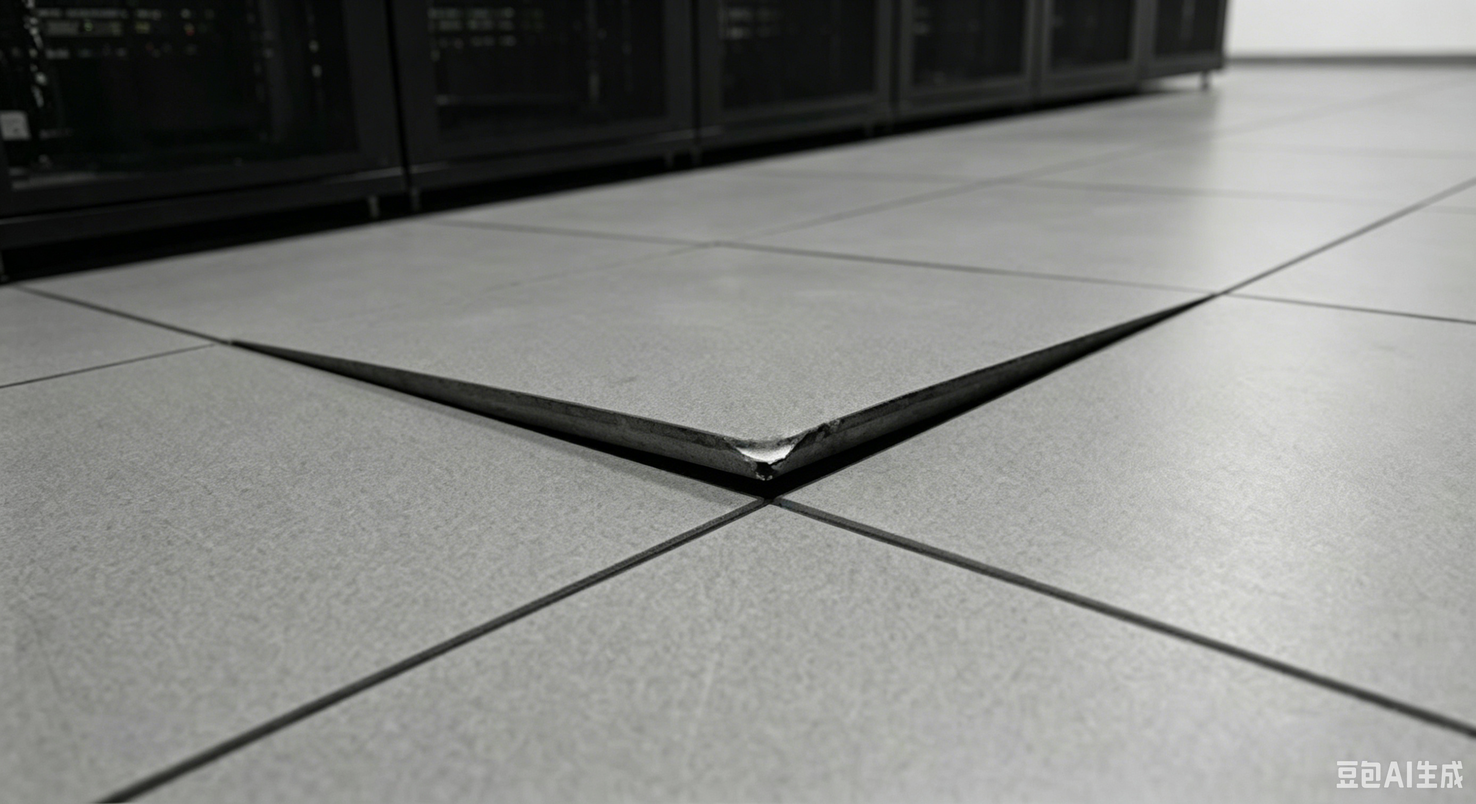floor_defect: (230, 297, 1235, 516)
